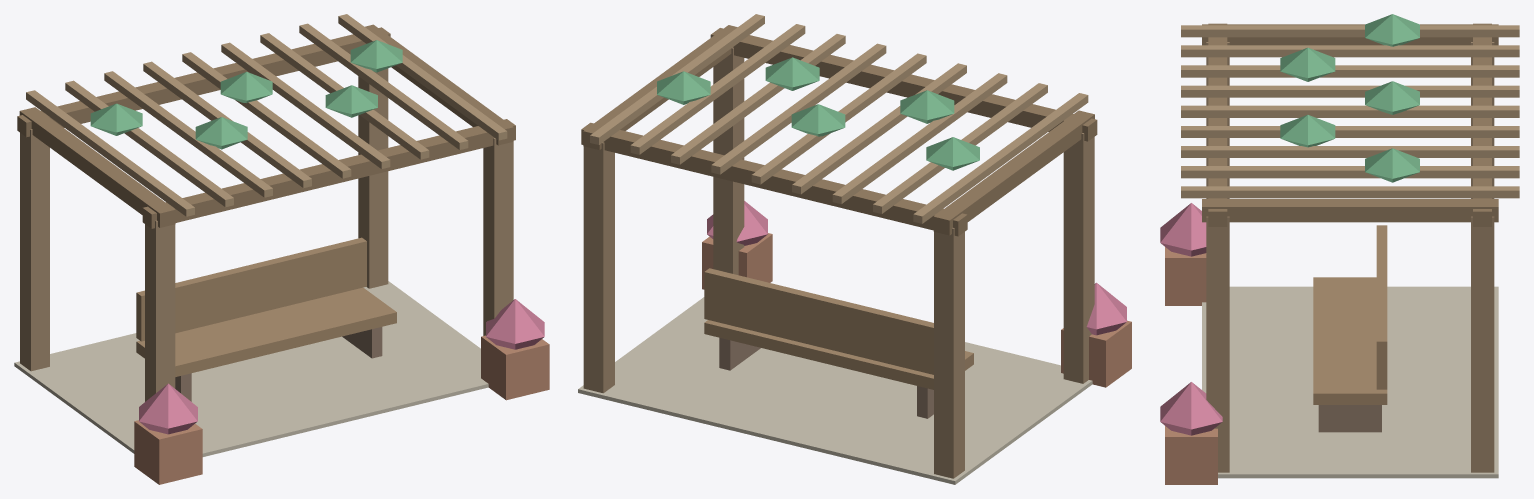
The model's file is commons_pergola.glb.
3 renders of one model, left to right at view 1: azimuth 30°, elevation 25°; view 2: azimuth 150°, elevation 25°; view 3: azimuth 270°, elevation 25°, orthographic. The views are drawn at different scales.
Size of the model in its own units: 4.68 by 3.16 by 3.39.
